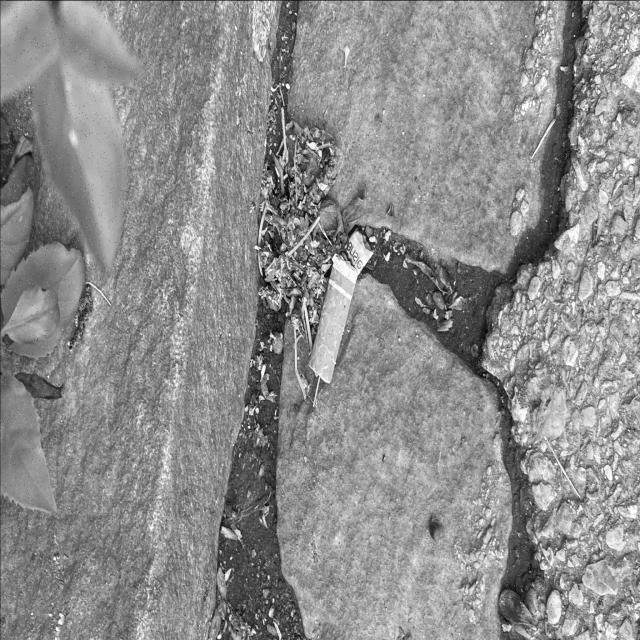other waste: (308, 226, 374, 384)
